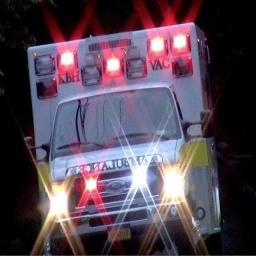ambulance: (27, 23, 219, 253)
